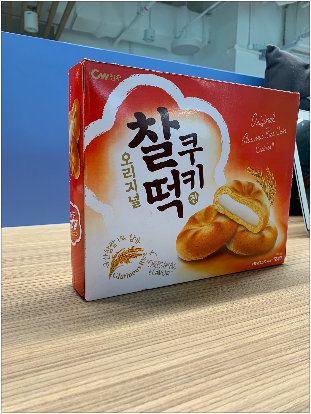Cookies_200-299g: (94, 66, 288, 273)
